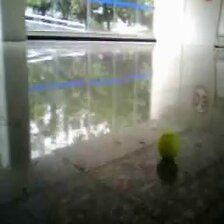tennis: (157, 129, 179, 159)
